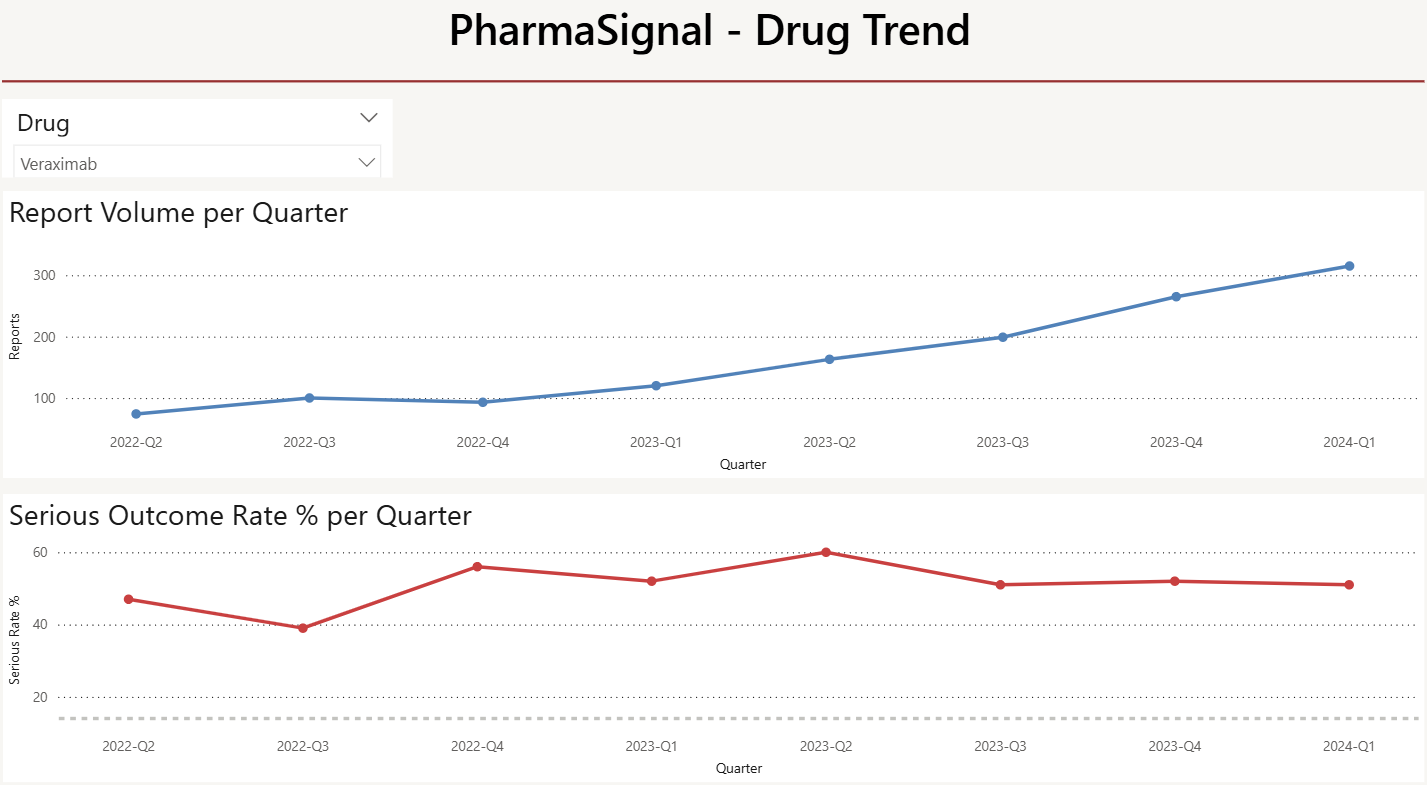

What the dashboard file says about the page in this screenshot:
{"tool":"powerbi","page":{"name":"Trend","canvas":[1280,720],"ordinal":2},"visuals":[{"type":"slicer","fields":{"Values":["risk_watchlist.drug_name"]},"box":[14.8,101.6,343.4,69.1],"z":0},{"type":"lineChart","title":"Report Volume per Quarter","fields":{"Category":["quarterly_trend.quarter"],"Y":["Sum(quarterly_trend.total_reports)"]},"box":[15.9,182.5,1248.3,251.7],"z":1000},{"type":"lineChart","title":"Serious Outcome Rate % per Quarter","fields":{"Category":["quarterly_trend.quarter"],"Y":["Avg(quarterly_trend.serious_pct)"]},"box":[15.9,449,1248.3,252.8],"z":2000},{"type":"textbox","box":[0,8.9,1280,59.2],"z":3000},{"type":"shape","box":[14.8,79.9,1249.4,12.8],"z":4000}]}

Visuals, with their boxes in screenshot pixels (x1, y1, x2, y2), scaled from the page's 1280x720 canvas onto the 1427x785 screenshot:
slicer - risk_watchlist.drug_name: box(16, 111, 399, 186)
"Report Volume per Quarter" lineChart: box(18, 199, 1409, 473)
"Serious Outcome Rate % per Quarter" lineChart: box(18, 490, 1409, 765)
textbox: box(0, 10, 1426, 74)
shape: box(16, 87, 1409, 101)
